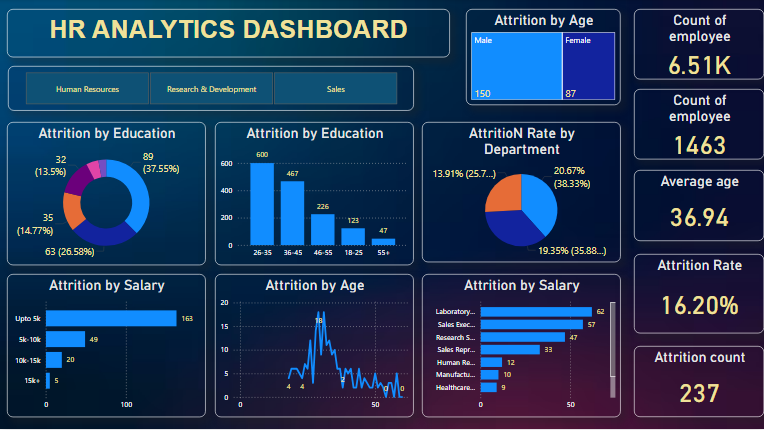

What the dashboard file says about the page in this screenshot:
{"tool":"powerbi","page":{"name":"Page 1","canvas":[1280,720],"ordinal":0},"visuals":[{"type":"card","title":"Count of employee","fields":{"Values":["CountNonNull(HR_Analytics.EmpID)"]},"box":[1061.6,151.2,218.4,117.6],"z":0},{"type":"card","title":"Attrition count","fields":{"Values":["Sum(HR_Analytics.Attrition Count)"]},"box":[1061.6,581.2,218.4,119.3],"z":1000},{"type":"card","title":"Attrition Rate","fields":{"Values":["HR_Analytics.AttritioN Rate"]},"box":[1061.6,426.7,218.4,132.7],"z":2000},{"type":"card","title":"Average age","fields":{"Values":["Avg(HR_Analytics.Age)"]},"box":[1061.6,287.2,218.4,119.3],"z":3000},{"type":"donutChart","title":"Attrition by Education","fields":{"Category":["HR_Analytics.EducationField"],"Y":["Sum(HR_Analytics.Attrition Count)"]},"box":[11.8,206.6,332.6,240.2],"z":4000},{"type":"columnChart","title":"Attrition by Education","fields":{"Category":["HR_Analytics.AgeGroup"],"Y":["CountNonNull(HR_Analytics.EducationField)"]},"box":[359.5,206.6,332.6,240.2],"z":5000},{"type":"clusteredBarChart","title":"Attrition by Salary","fields":{"Category":["HR_Analytics.SalarySlab"],"Y":["Sum(HR_Analytics.Attrition Count)"]},"box":[11.8,460.3,332.6,240.2],"z":6000},{"type":"lineChart","title":"Attrition by Age","fields":{"Category":["HR_Analytics.Age"],"Y":["Sum(HR_Analytics.Attrition Count)"]},"box":[359.5,460.3,332.6,240.2],"z":7000},{"type":"clusteredBarChart","title":"Attrition by Salary","fields":{"Category":["HR_Analytics.JobRole"],"Y":["Sum(HR_Analytics.Attrition Count)"]},"box":[707.2,460.3,332.6,240.2],"z":8000},{"type":"treemap","title":"Attrition by Age","fields":{"Values":["Sum(HR_Analytics.Attrition Count)"],"Group":["HR_Analytics.Gender"]},"box":[781.1,16.8,258.7,161.3],"z":9000},{"type":"pieChart","fields":{"Category":["HR_Analytics.Department"],"Y":["HR_Analytics.AttritioN Rate"]},"box":[707.2,206.6,332.6,235.2],"z":10000},{"type":"card","title":"Count of employee","fields":{"Values":["Avg(HR_Analytics.MonthlyIncome)"]},"box":[1061.6,16.8,218.4,117.6],"z":11000},{"type":"textbox","box":[11.8,16.8,742.5,80.6],"z":12000},{"type":"slicer","fields":{"Values":["HR_Analytics.Department"]},"box":[13.4,112.3,680.2,75.4],"z":13000}]}

Visuals, with their boxes in screenshot pixels (x1, y1, x2, y2), scaled from the page's 1280x720 canvas onto the 764x430 screenshot:
"Count of employee" card: box(634, 90, 763, 161)
"Attrition count" card: box(634, 347, 763, 418)
"Attrition Rate" card: box(634, 255, 763, 334)
"Average age" card: box(634, 172, 763, 243)
"Attrition by Education" donutChart: box(7, 123, 206, 267)
"Attrition by Education" columnChart: box(215, 123, 413, 267)
"Attrition by Salary" clusteredBarChart: box(7, 275, 206, 418)
"Attrition by Age" lineChart: box(215, 275, 413, 418)
"Attrition by Salary" clusteredBarChart: box(422, 275, 621, 418)
"Attrition by Age" treemap: box(466, 10, 621, 106)
pieChart - HR_Analytics.Department x HR_Analytics.AttritioN Rate: box(422, 123, 621, 264)
"Count of employee" card: box(634, 10, 763, 80)
textbox: box(7, 10, 450, 58)
slicer - HR_Analytics.Department: box(8, 67, 414, 112)
